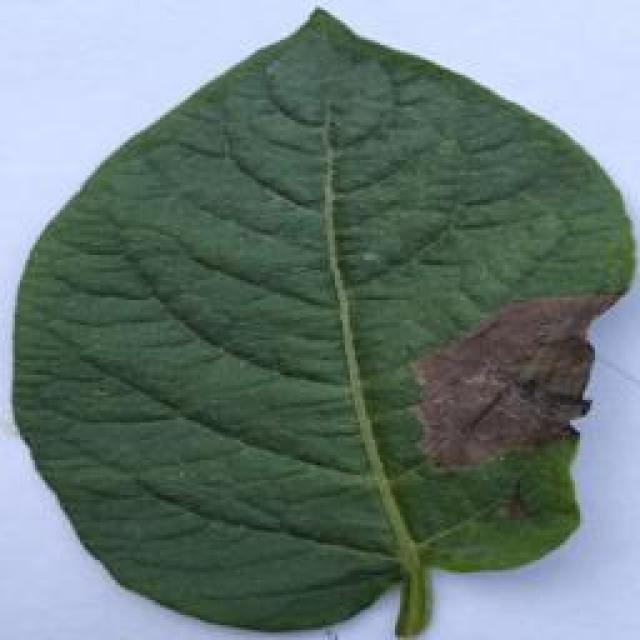Potato_Late_Blight: (0, 2, 628, 630)
